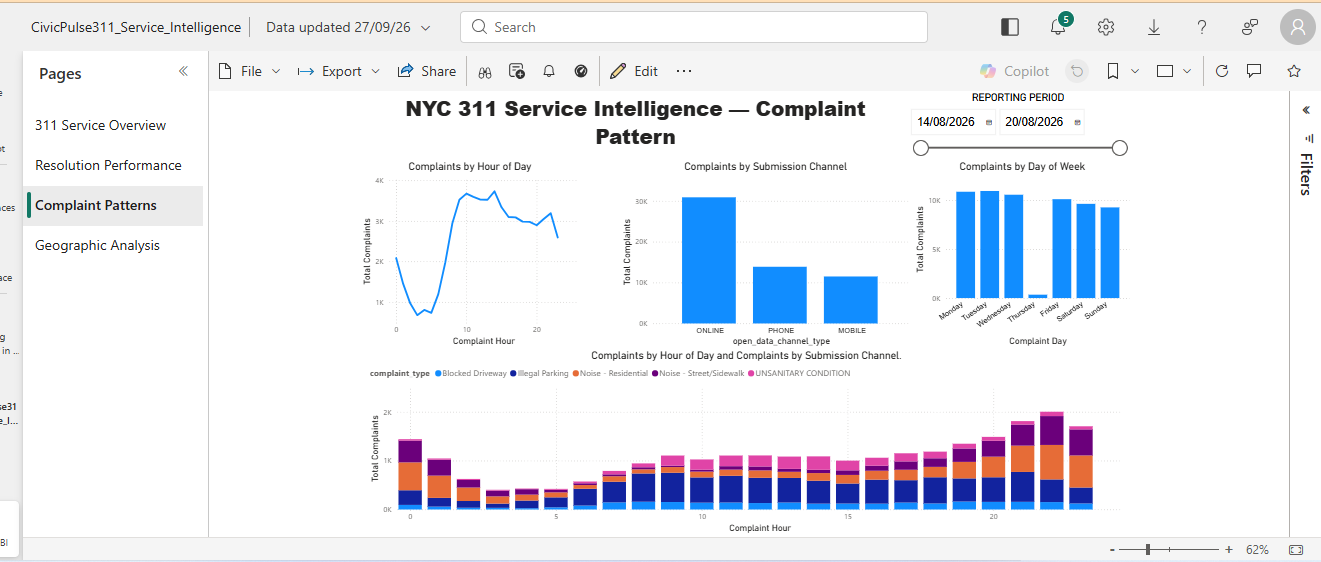

The page's visual inventory and layout, read from the dashboard file:
{"tool":"powerbi","page":{"name":"Complaint Patterns","canvas":[1280,720],"ordinal":2},"visuals":[{"type":"lineChart","title":"Complaints by Hour of Day","fields":{"Category":["civicpulse311_powerbi.Complaint Hour"],"Y":["civicpulse311_powerbi.Total Complaints"]},"box":[9.8,112.2,358.5,304.9],"z":0},{"type":"clusteredColumnChart","title":"Complaints by Submission Channel","fields":{"Category":["civicpulse311_powerbi.open_data_channel_type"],"Y":["civicpulse311_powerbi.Total Complaints"]},"box":[429.3,112.2,473.2,304.9],"z":1000},{"type":"columnChart","title":"Complaints by Hour of Day and Complaints by Submission Channel.","fields":{"Category":["civicpulse311_powerbi.Complaint Hour"],"Y":["civicpulse311_powerbi.Total Complaints"],"Series":["civicpulse311_powerbi.complaint_type"]},"box":[22,417.1,1224.4,302.4],"z":2000},{"type":"clusteredColumnChart","title":"Complaints by Day of Week","fields":{"Category":["civicpulse311_powerbi.Complaint Day"],"Y":["civicpulse311_powerbi.Total Complaints"]},"box":[902.4,112.2,356.1,304.9],"z":3000},{"type":"textbox","box":[9.8,0,892.7,112.2],"z":4000},{"type":"slicer","title":"REPORTING PERIOD","fields":{"Values":["civicpulse311_powerbi.created_date"]},"box":[887.8,0,370.7,112.2],"z":5000}]}

Visuals, with their boxes on the page's 1280x720 design canvas (x1, y1, x2, y2). These are canvas units, not pixel positions in the 1321x562 screenshot, which may show the page scaled, cropped or inside an application window:
"Complaints by Hour of Day" lineChart: <bbox>10, 112, 368, 417</bbox>
"Complaints by Submission Channel" clusteredColumnChart: <bbox>429, 112, 902, 417</bbox>
"Complaints by Hour of Day and Complaints by Submission Channel." columnChart: <bbox>22, 417, 1246, 720</bbox>
"Complaints by Day of Week" clusteredColumnChart: <bbox>902, 112, 1258, 417</bbox>
textbox: <bbox>10, 0, 902, 112</bbox>
"REPORTING PERIOD" slicer: <bbox>888, 0, 1258, 112</bbox>
